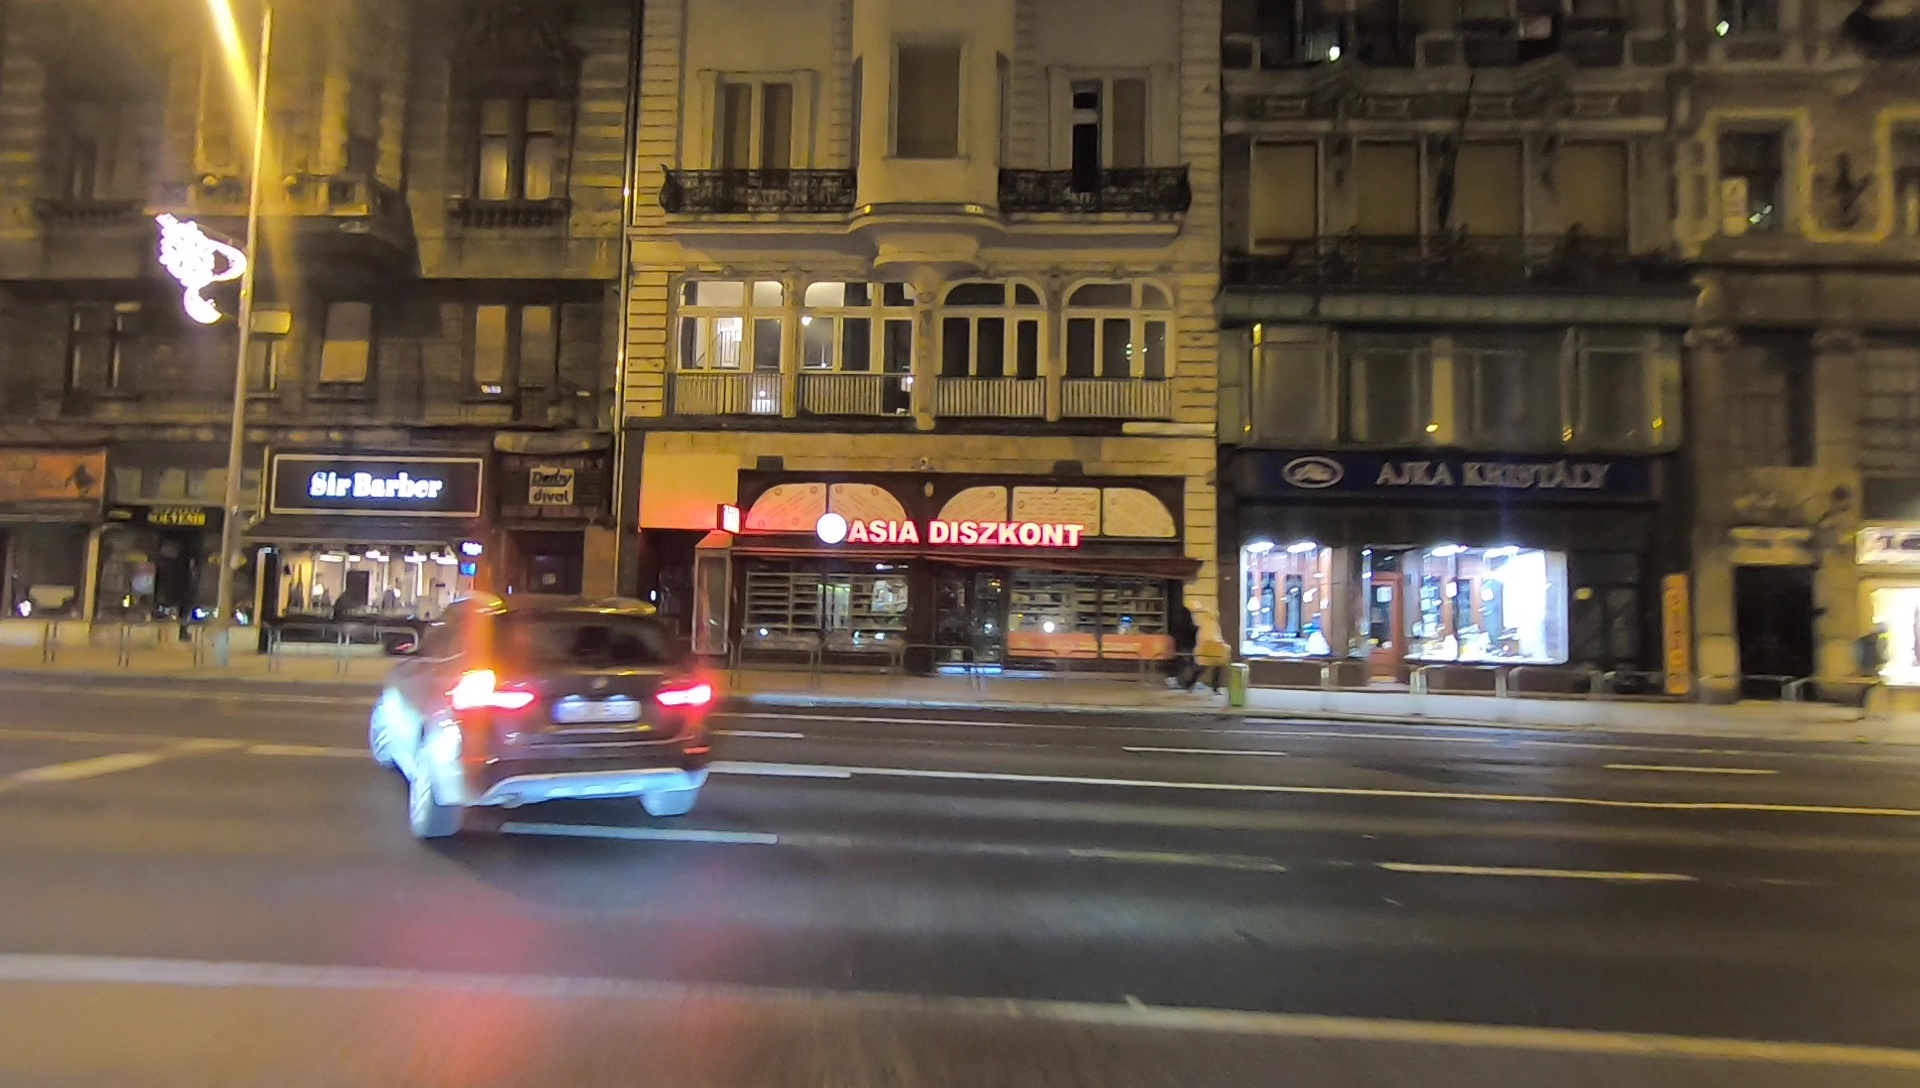person: (1188, 606, 1225, 689), (1169, 603, 1201, 689)
